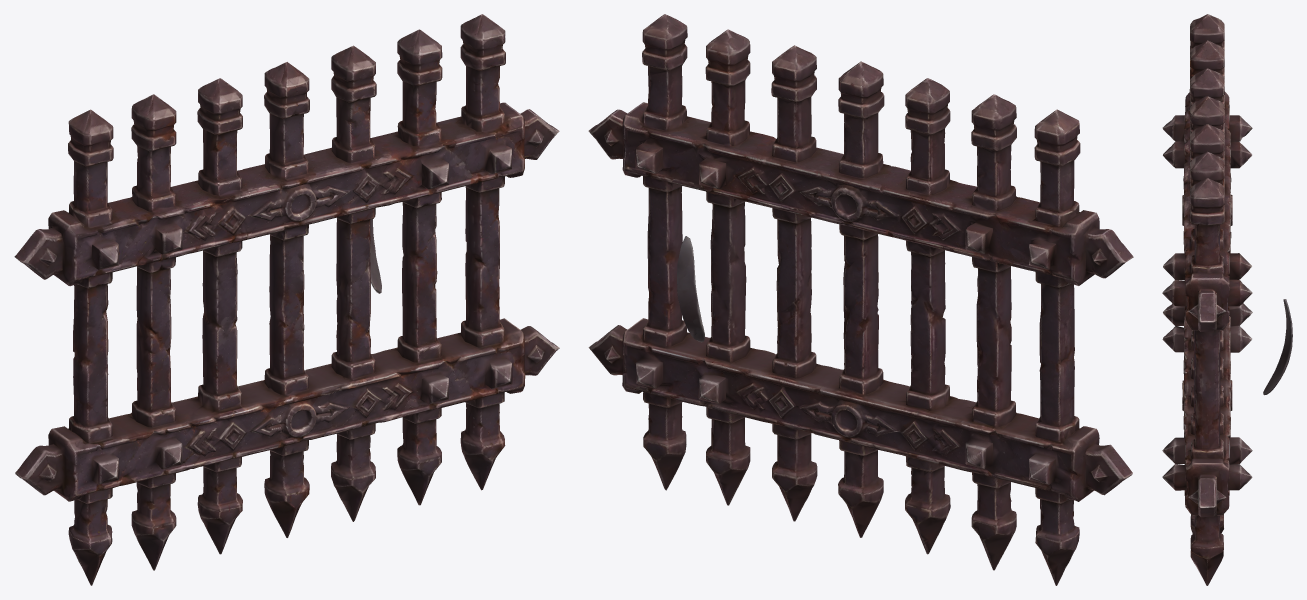
Rendered from timed_door.glb.
The picture shows the model from 3 angles, left to right: view 1: azimuth 30°, elevation 25°; view 2: azimuth 150°, elevation 25°; view 3: azimuth 270°, elevation 25°; orthographic projection. The views are drawn at different scales.
Visible parts, largest first — view 1: tripo_node_13bc9c09-c435-4968-81dc-0267cde9fc74; view 2: tripo_node_13bc9c09-c435-4968-81dc-0267cde9fc74; view 3: tripo_node_13bc9c09-c435-4968-81dc-0267cde9fc74.
Part boxes in pixels (x1=…): tripo_node_13bc9c09-c435-4968-81dc-0267cde9fc74: x1=14, y1=14, x2=559, y2=585; tripo_node_13bc9c09-c435-4968-81dc-0267cde9fc74: x1=588, y1=14, x2=1133, y2=585; tripo_node_13bc9c09-c435-4968-81dc-0267cde9fc74: x1=1162, y1=14, x2=1292, y2=585.
Size of the model in its own units: 1 by 0.8459 by 0.2455.
1 material, 1 textured.
